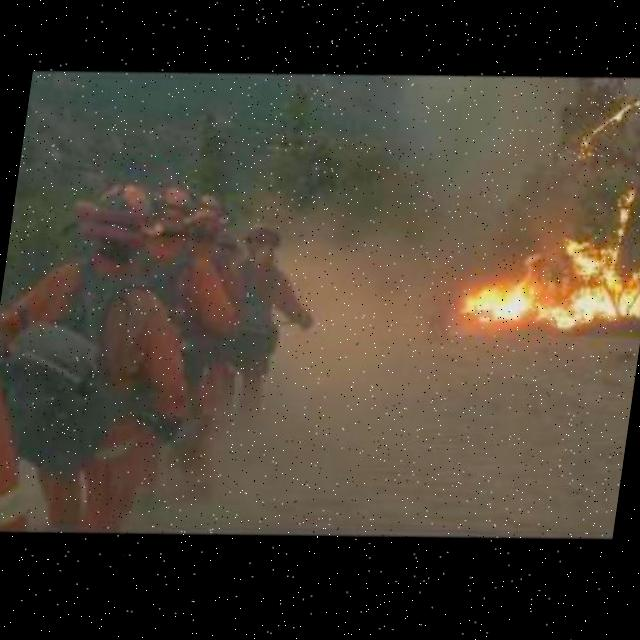fire: (429, 143, 640, 366), (569, 81, 640, 164)
